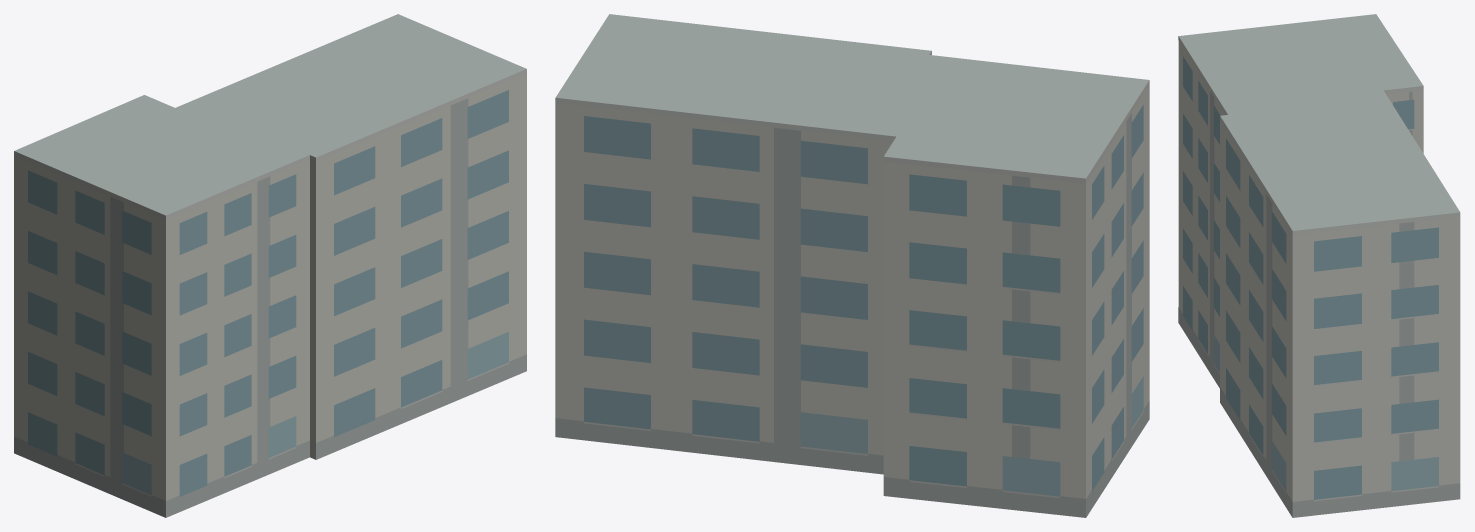
File: survey-upis-32761485.glb
The picture shows the model from 3 angles, left to right: view 1: azimuth 30°, elevation 25°; view 2: azimuth 150°, elevation 25°; view 3: azimuth 270°, elevation 25°; orthographic projection. The views are drawn at different scales.
Visible parts, largest first — view 1: survey-upis-32761485.tmp; view 2: survey-upis-32761485.tmp; view 3: survey-upis-32761485.tmp.
Part boxes in pixels (bbox=[...]): survey-upis-32761485.tmp: bbox=[14, 14, 526, 517]; survey-upis-32761485.tmp: bbox=[555, 14, 1149, 517]; survey-upis-32761485.tmp: bbox=[1178, 14, 1460, 517].
Bounding box in the file's own units: 26.13 × 16.1 × 14.35.
